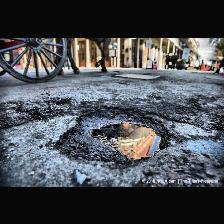pothole: (52, 103, 172, 167)
